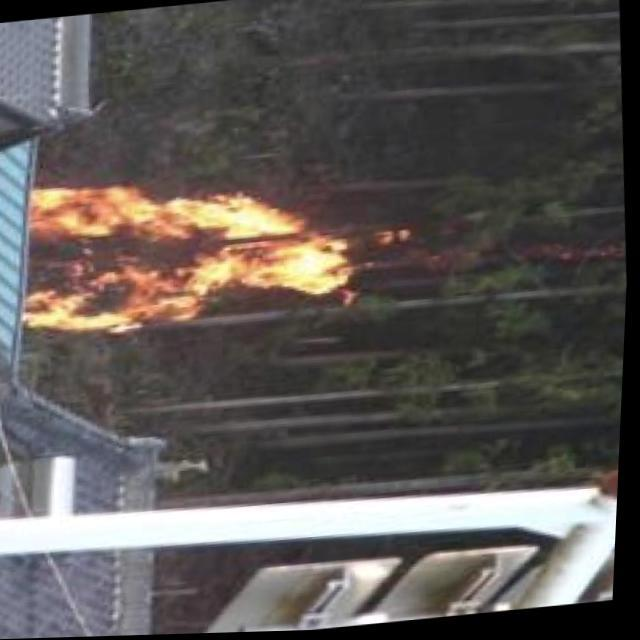fire: (16, 156, 376, 352)
